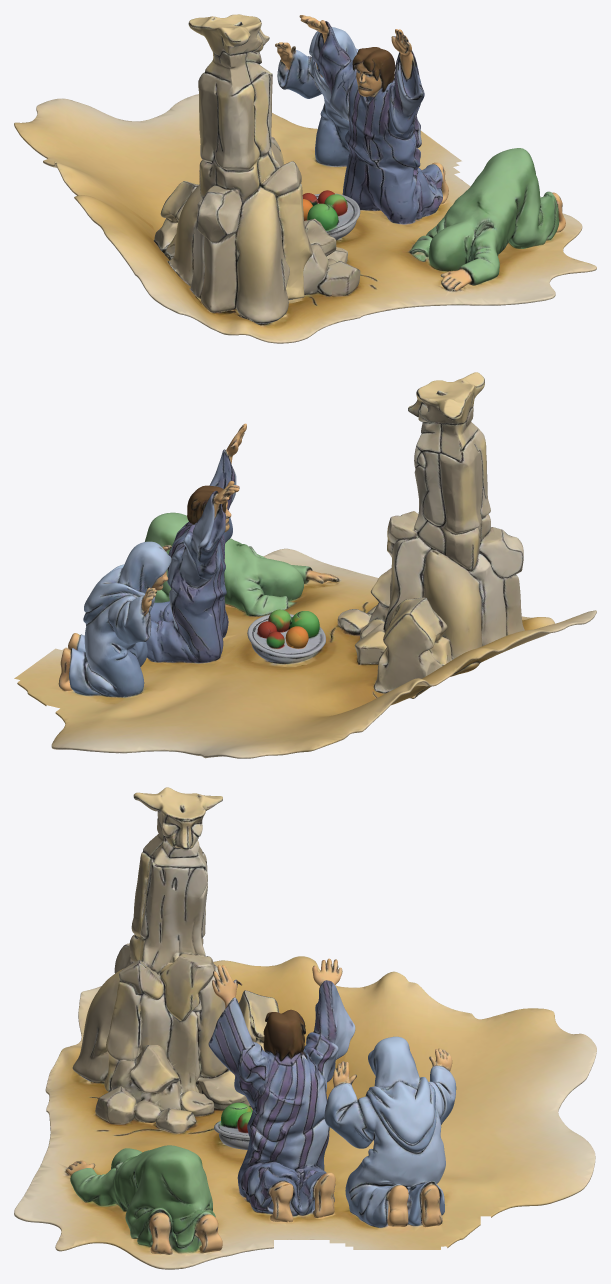
File: page-01.glb
3 views of the same model, one above another, from view 1: azimuth 30°, elevation 25°; view 2: azimuth 150°, elevation 25°; view 3: azimuth 270°, elevation 25° (orthographic). The views are drawn at different scales.
Visible parts, largest first — view 1: tripo_node_dcb79f10-7e8c-4f14-8db9-a85e6ea3e2b2; view 2: tripo_node_dcb79f10-7e8c-4f14-8db9-a85e6ea3e2b2; view 3: tripo_node_dcb79f10-7e8c-4f14-8db9-a85e6ea3e2b2.
Part boxes in pixels (x1,y1,x2,y2): tripo_node_dcb79f10-7e8c-4f14-8db9-a85e6ea3e2b2: (14,14,596,343); tripo_node_dcb79f10-7e8c-4f14-8db9-a85e6ea3e2b2: (14,372,596,758); tripo_node_dcb79f10-7e8c-4f14-8db9-a85e6ea3e2b2: (14,787,596,1269).
Bounding box in the file's own units: 0.9377 × 0.5653 × 1.
Materials: 1 (1 with a texture image).
